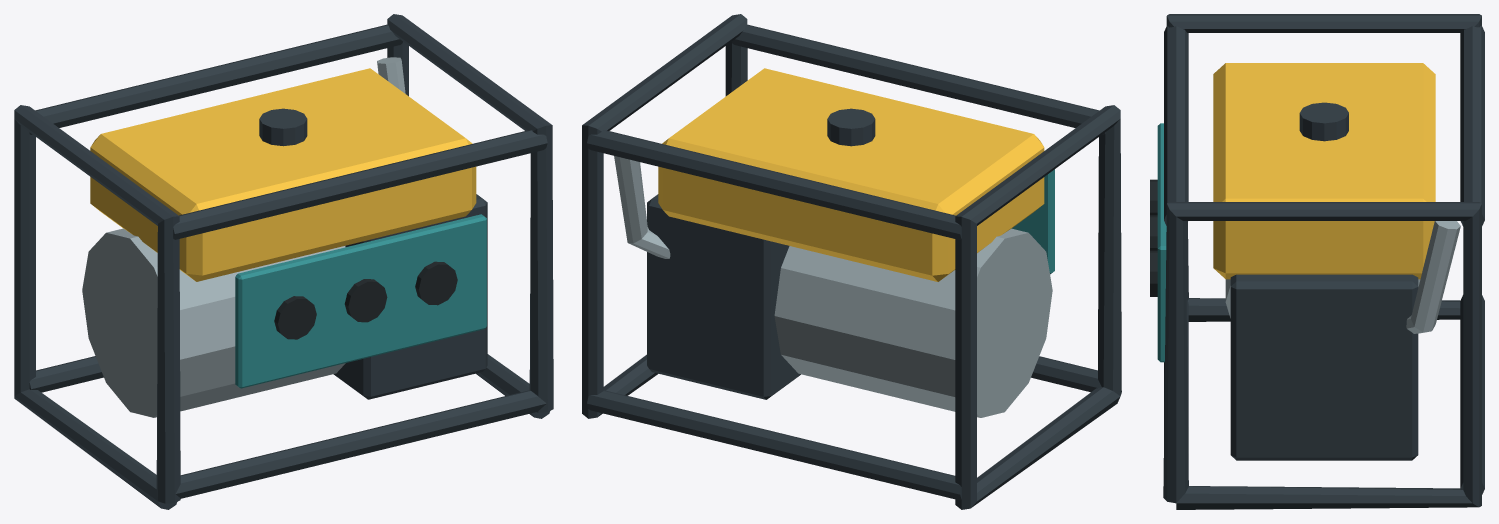
File: Generator_Portable.glb
3 views of the same model, side by side, from view 1: azimuth 30°, elevation 25°; view 2: azimuth 150°, elevation 25°; view 3: azimuth 270°, elevation 25° (orthographic). The views are drawn at different scales.
Visible parts, largest first — view 1: Generator_Portable; view 2: Generator_Portable; view 3: Generator_Portable.
Boxes of the visible parts, <box> form: Generator_Portable: <box>14,14,553,509</box>; Generator_Portable: <box>582,14,1121,509</box>; Generator_Portable: <box>1150,14,1484,509</box>.
Bounding box in the file's own units: 0.952 × 0.6838 × 0.678.
